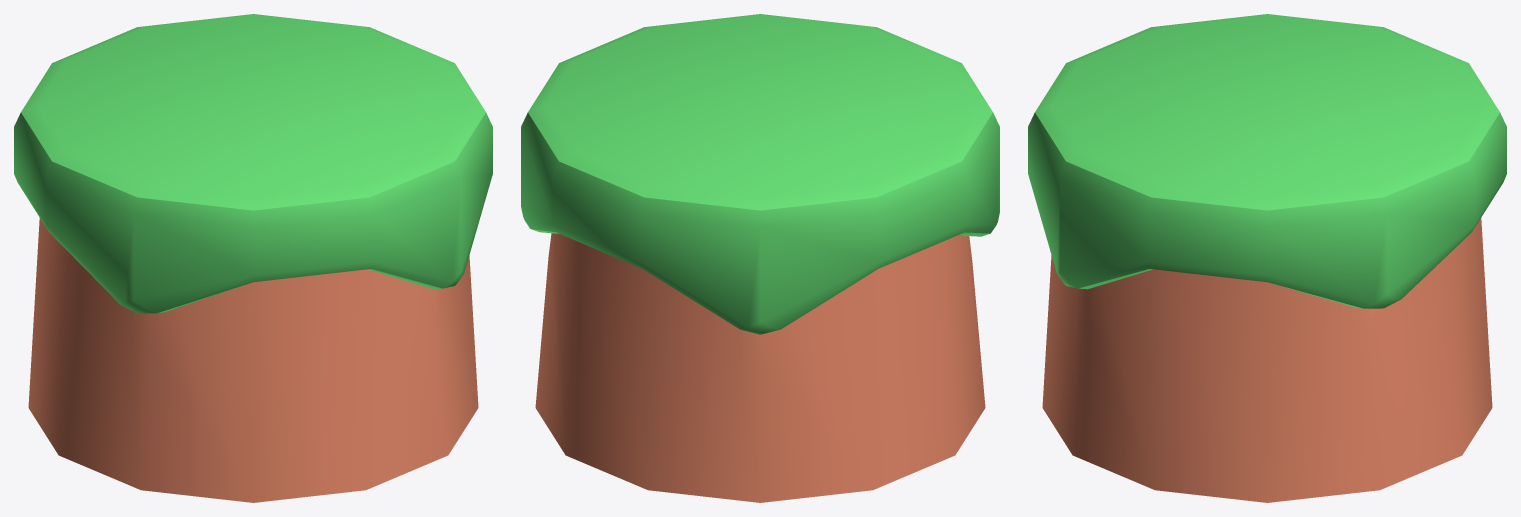
The model's file is Hill_B.fbx.
3 views of the same model, side by side, from view 1: azimuth 30°, elevation 25°; view 2: azimuth 150°, elevation 25°; view 3: azimuth 270°, elevation 25° (orthographic).
Parts seen in each view (by area): view 1: Hill_B; view 2: Hill_B; view 3: Hill_B.
Part boxes in pixels (x1,y1,x2,y2): Hill_B: (14,14,492,502); Hill_B: (521,14,999,502); Hill_B: (1028,14,1506,502).
Bounding box in the file's own units: 288 × 200 × 288.
